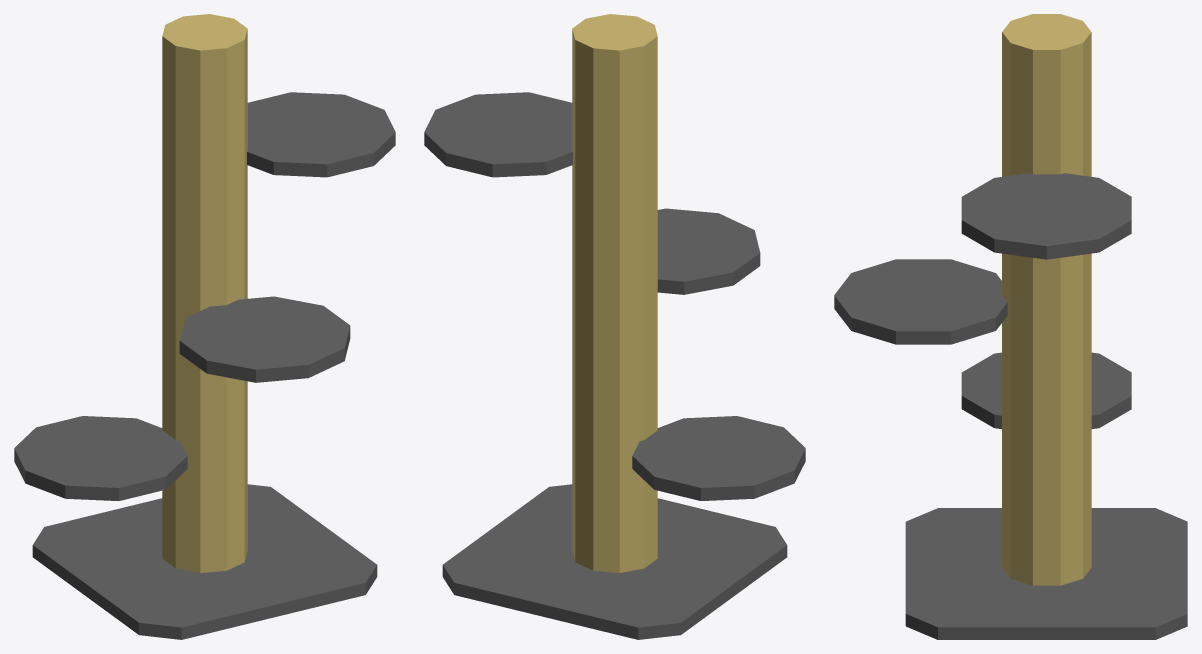
The model's file is Kratzbaum.fbx.
The picture shows the model from 3 angles, left to right: view 1: azimuth 30°, elevation 25°; view 2: azimuth 150°, elevation 25°; view 3: azimuth 270°, elevation 25°; orthographic projection. The views are drawn at different scales.
Parts seen in each view (by area): view 1: Cylinder, Cube, Cylinder.003, Cylinder.001, Cylinder.002; view 2: Cylinder, Cube, Cylinder.003, Cylinder.002, Cylinder.001; view 3: Cylinder, Cube, Cylinder.002, Cylinder.001, Cylinder.003.
Part boxes in pixels (x1,y1,x2,y2): Cylinder: [162, 14, 247, 572]; Cube: [32, 484, 377, 639]; Cylinder.003: [14, 416, 187, 500]; Cylinder.001: [179, 296, 350, 382]; Cylinder.002: [247, 92, 395, 177]; Cylinder: [572, 14, 657, 572]; Cube: [442, 484, 787, 639]; Cylinder.003: [632, 416, 805, 500]; Cylinder.002: [424, 92, 572, 177]; Cylinder.001: [657, 208, 760, 294]; Cylinder: [1002, 14, 1091, 585]; Cube: [905, 508, 1187, 639]; Cylinder.002: [961, 173, 1131, 259]; Cylinder.001: [834, 259, 1007, 344]; Cylinder.003: [961, 352, 1131, 429].
Size of the model in its own units: 143 by 203 by 119.
